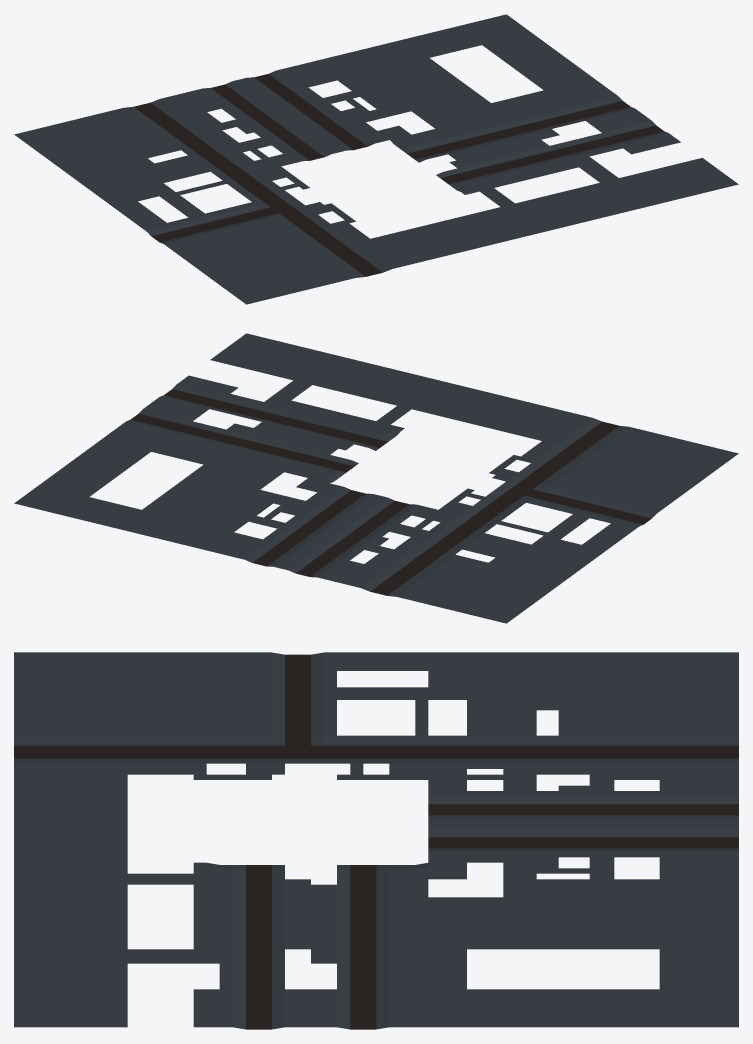
File: Arena1_BackTerrain.fbx
3 renders of one model, top to bottom at view 1: azimuth 30°, elevation 25°; view 2: azimuth 150°, elevation 25°; view 3: azimuth 270°, elevation 25°, orthographic. The views are drawn at different scales.
Visible parts, largest first — view 1: Floor; view 2: Floor; view 3: Floor.
Part boxes in pixels (x1=…): Floor: x1=14, y1=14, x2=738, y2=304; Floor: x1=14, y1=333, x2=738, y2=623; Floor: x1=14, y1=652, x2=738, y2=1029.
Bounding box in the file's own units: 48399 × 132 × 39558.
